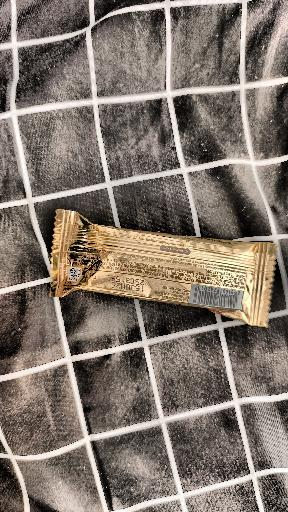top: (49, 207, 274, 328)
